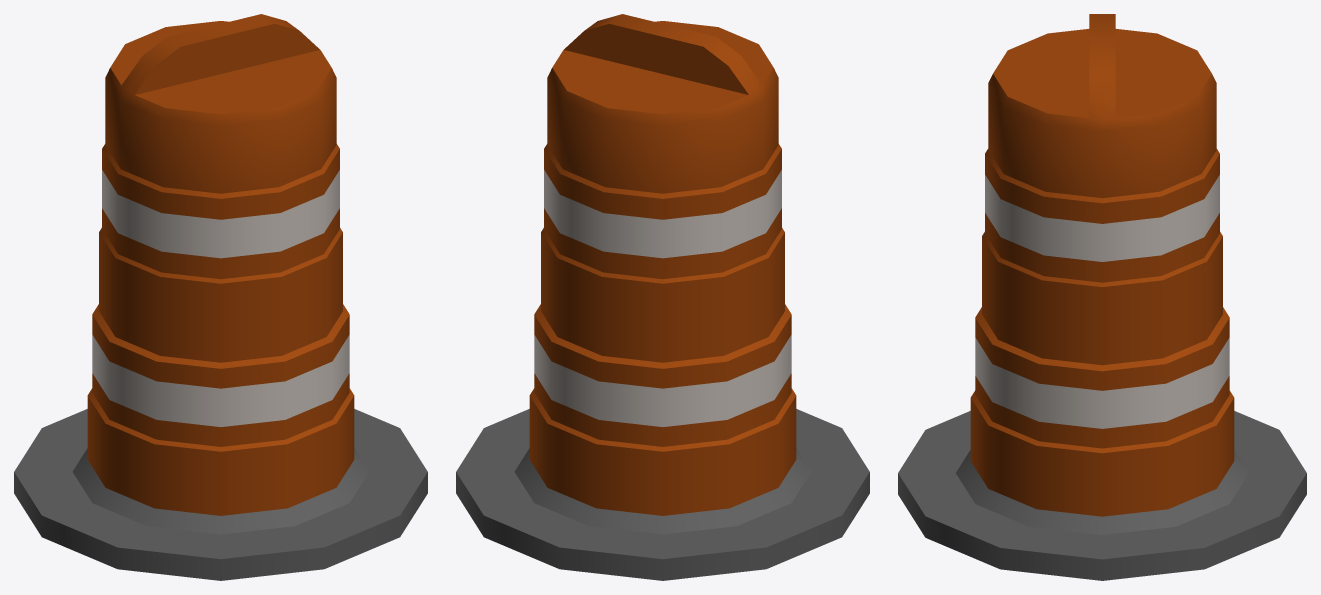
File: trafficcone_2_lev2.glb
3 views of the same model, side by side, from view 1: azimuth 30°, elevation 25°; view 2: azimuth 150°, elevation 25°; view 3: azimuth 270°, elevation 25° (orthographic).
Visible parts, largest first — view 1: trafficcone_2_lev2; view 2: trafficcone_2_lev2; view 3: trafficcone_2_lev2.
Part boxes in pixels (x1,y1,x2,y2): trafficcone_2_lev2: (14, 14, 427, 580); trafficcone_2_lev2: (456, 14, 869, 580); trafficcone_2_lev2: (898, 14, 1306, 580).
Bounding box in the file's own units: 3.56 × 4.39 × 3.56.
1 material, 1 textured.
